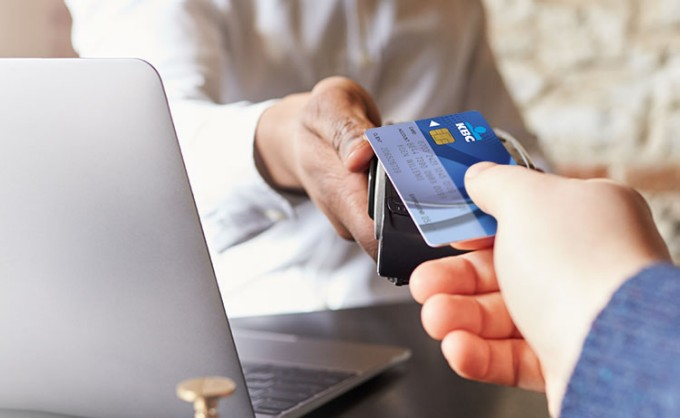tarjeta: (365, 109, 521, 247)
